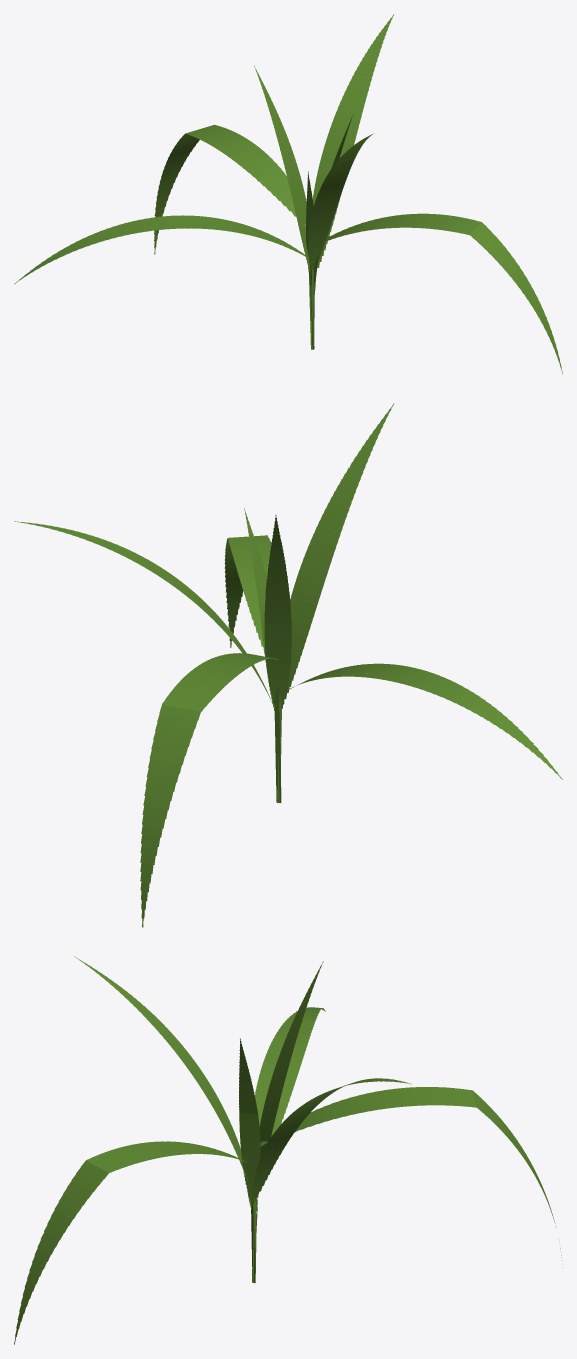
Rendered from maize_004_day_065.dae.
3 views of the same model, one above another, from view 1: azimuth 30°, elevation 25°; view 2: azimuth 150°, elevation 25°; view 3: azimuth 270°, elevation 25° (orthographic). The views are drawn at different scales.
Parts seen in each view (by area): view 1: node; view 2: node; view 3: node.
Part boxes in pixels (x1,y1,x2,y2): node: (14, 14, 562, 374); node: (14, 403, 562, 927); node: (14, 956, 562, 1344).
Size of the model in its own units: 0.8211 by 0.5217 by 0.819.
1 material, 1 textured.
